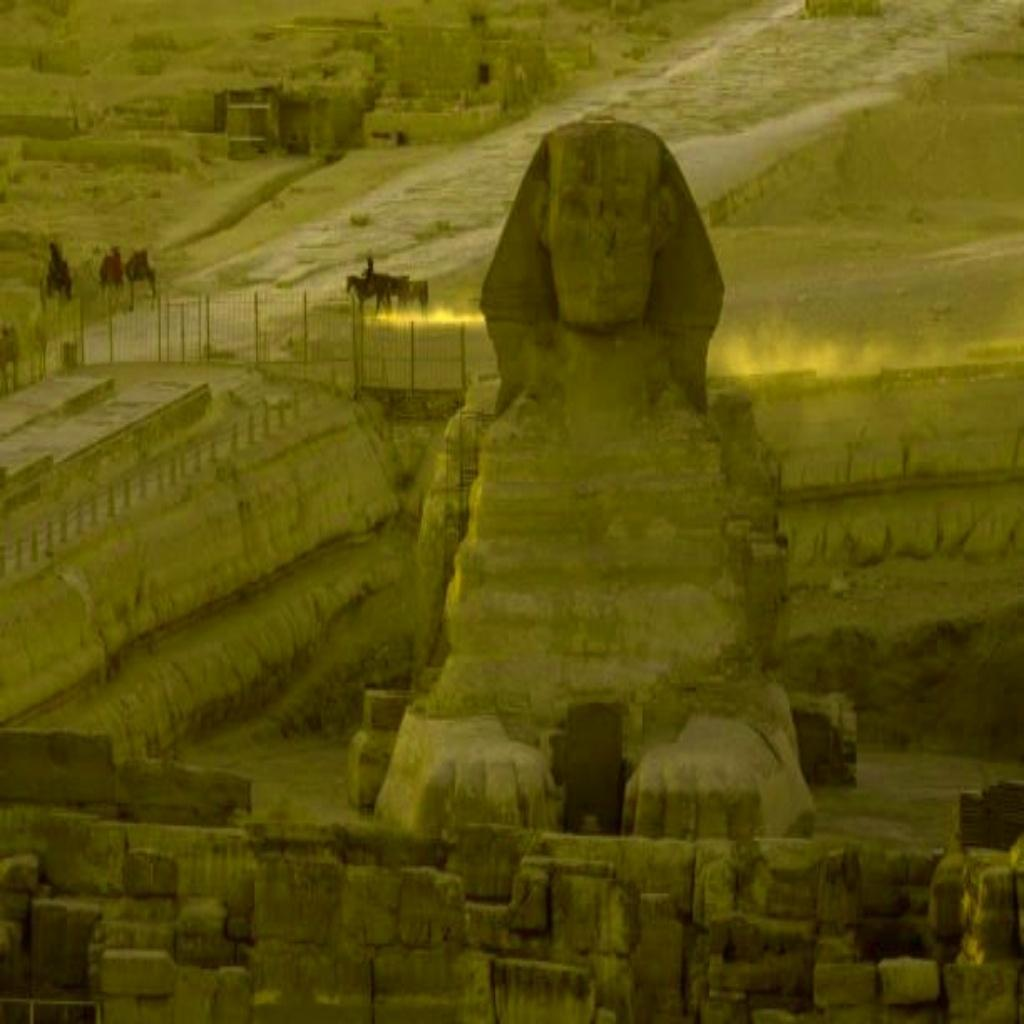Sphinx: (360, 110, 816, 838)
